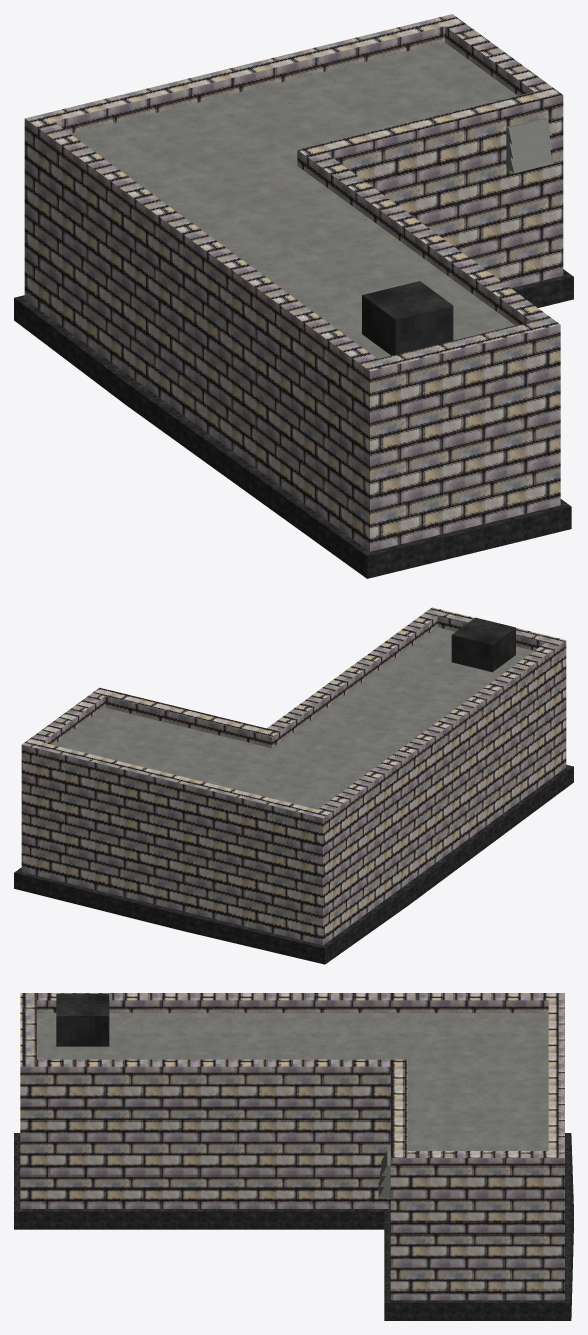
File: LshapedHouse.fbx
The picture shows the model from 3 angles, top to bottom: view 1: azimuth 30°, elevation 25°; view 2: azimuth 150°, elevation 25°; view 3: azimuth 270°, elevation 25°; orthographic projection. The views are drawn at different scales.
Parts seen in each view (by area): view 1: Cube; view 2: Cube; view 3: Cube.
Part boxes in pixels (<box>): Cube: <box>14,14,573,578</box>; Cube: <box>14,607,573,964</box>; Cube: <box>14,993,573,1320</box>.
Bounding box in the file's own units: 466 × 645 × 227.
